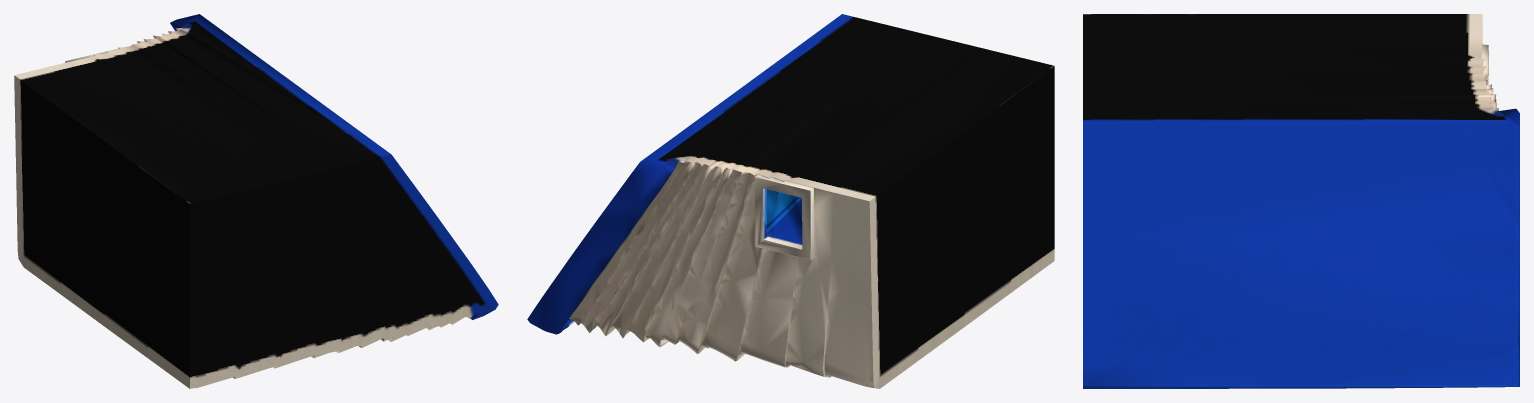
The model's file is 4-ground-floor-back-right.fbx.
3 views of the same model, side by side, from view 1: azimuth 30°, elevation 25°; view 2: azimuth 150°, elevation 25°; view 3: azimuth 270°, elevation 25° (orthographic). The views are drawn at different scales.
Visible parts, largest first — view 1: ground-floor-back-right; view 2: ground-floor-back-right; view 3: ground-floor-back-right.
Part boxes in pixels (bbox=[...]): ground-floor-back-right: bbox=[14, 14, 498, 388]; ground-floor-back-right: bbox=[527, 14, 1054, 388]; ground-floor-back-right: bbox=[1083, 14, 1519, 388].
Bounding box in the file's own units: 9016 × 5229 × 9688.
1 material, 1 textured.
